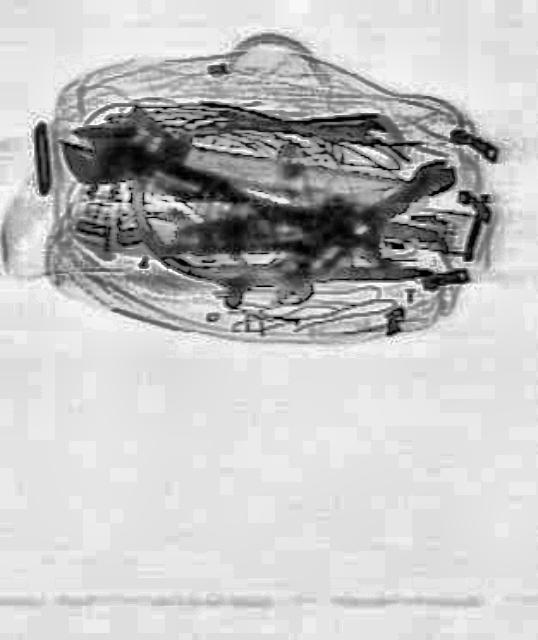Wrench: (52, 105, 280, 243)
